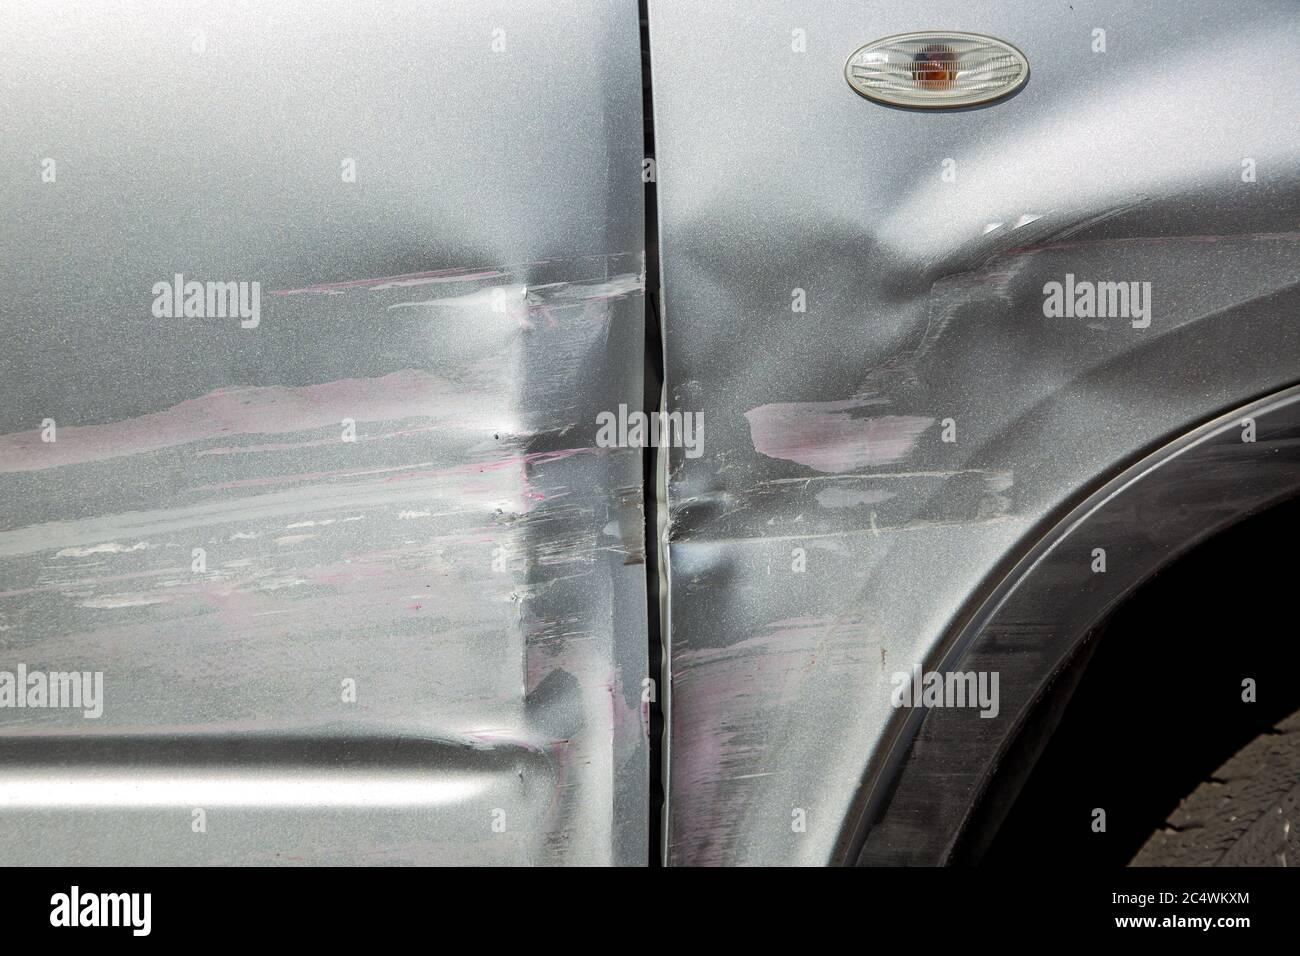scratch: (0, 198, 1170, 857)
